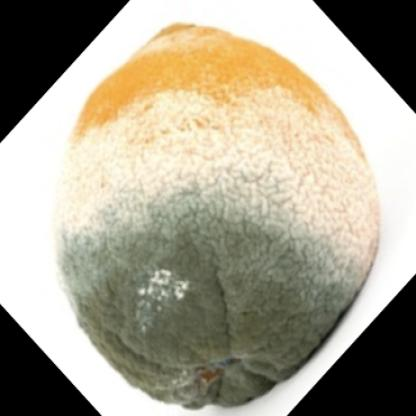rotten: (53, 26, 383, 406)
